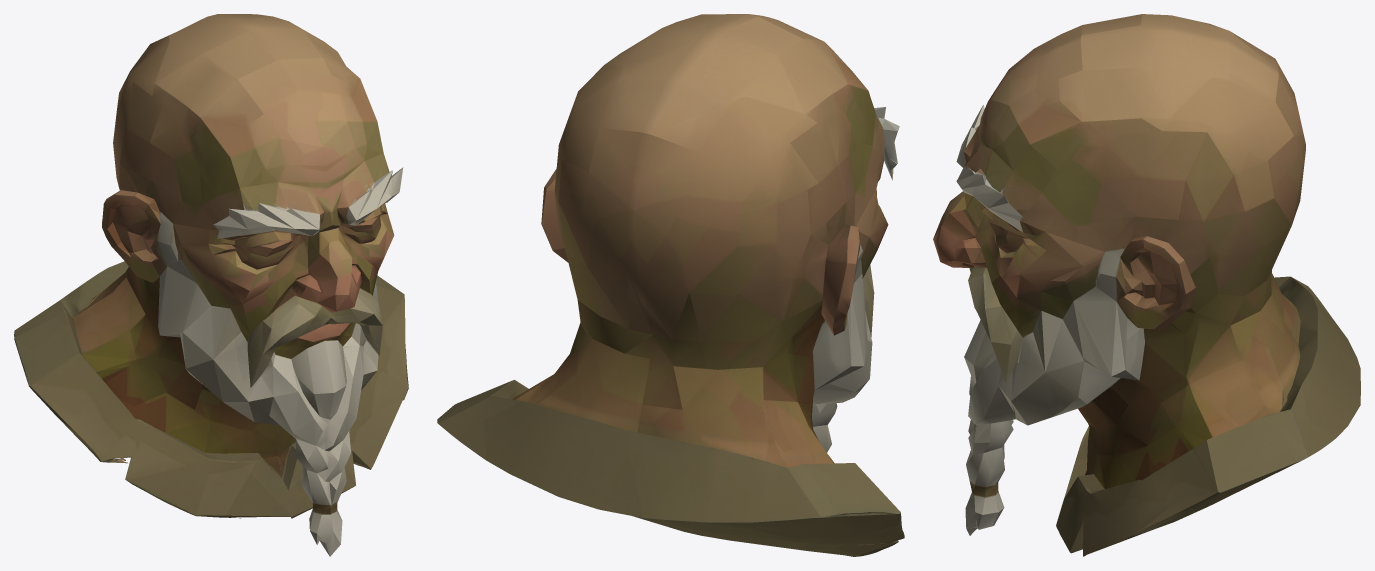
The model's file is DMHeadB.glb.
3 renders of one model, left to right at view 1: azimuth 30°, elevation 25°; view 2: azimuth 150°, elevation 25°; view 3: azimuth 270°, elevation 25°, orthographic. The views are drawn at different scales.
Bounding box in the file's own units: 1.59 × 1.9 × 1.45.
Materials: 1 (1 with a texture image).
